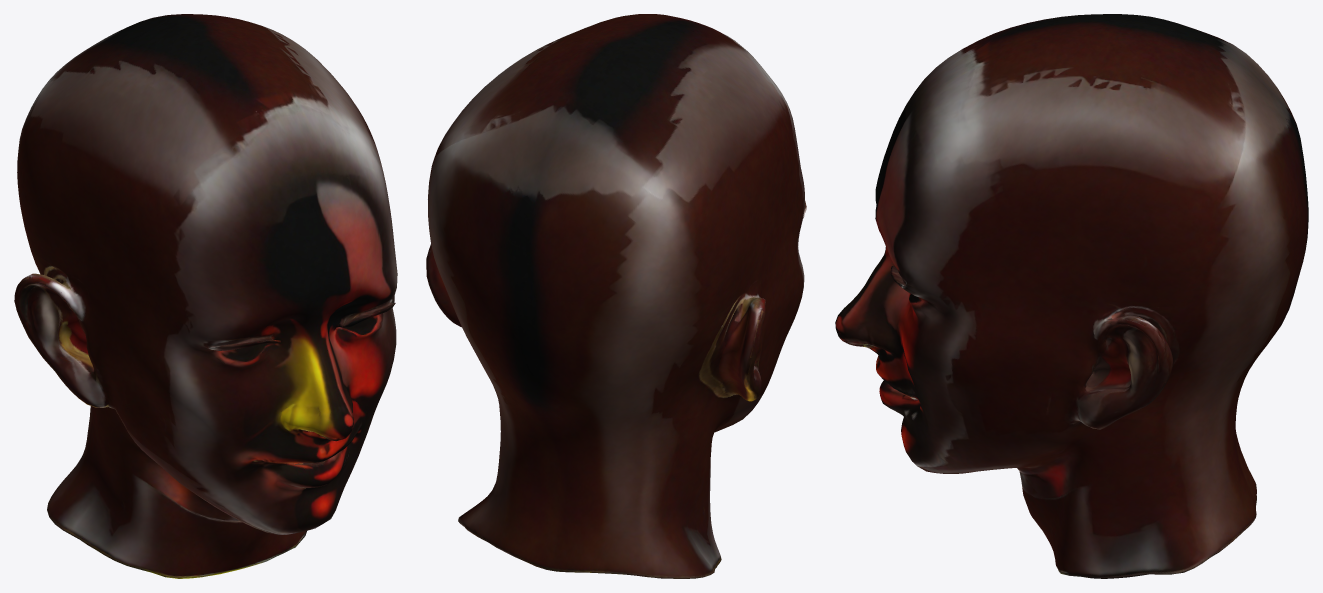
The model's file is Luminous_Face_0120231747_texture.glb.
The picture shows the model from 3 angles, left to right: view 1: azimuth 30°, elevation 25°; view 2: azimuth 150°, elevation 25°; view 3: azimuth 270°, elevation 25°; orthographic projection.
Bounding box in the file's own units: 0.8064 × 1.2 × 0.9832.
1 material, 1 textured.
